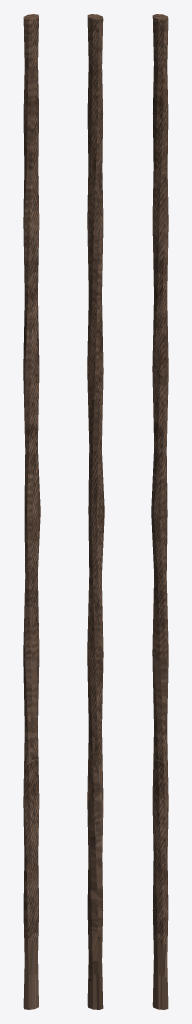
File: Cuerda_ParaCostales.fbx
The picture shows the model from 3 angles, left to right: view 1: azimuth 30°, elevation 25°; view 2: azimuth 150°, elevation 25°; view 3: azimuth 330°, elevation 25°; orthographic projection.
Visible parts, largest first — view 1: Cuerda.009; view 2: Cuerda.009; view 3: Cuerda.009.
Boxes of the visible parts, <box> form: Cuerda.009: <box>23,14,40,1009</box>; Cuerda.009: <box>87,14,104,1009</box>; Cuerda.009: <box>151,14,168,1009</box>.
Bounding box in the file's own units: 22.12 × 1388 × 17.97.
Materials: 1 (1 with a texture image).
